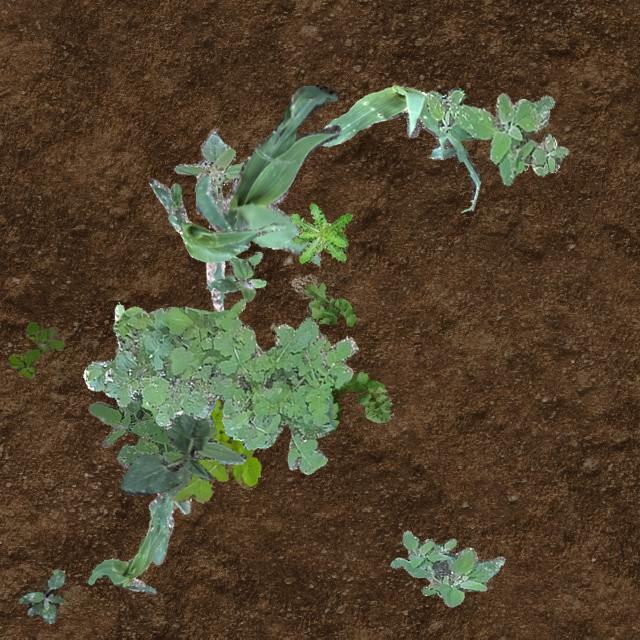crop: (193, 84, 339, 310), (320, 84, 480, 210), (114, 304, 190, 564), (148, 176, 284, 262), (86, 492, 168, 594), (120, 412, 212, 496)
weed: (82, 296, 356, 474), (270, 272, 392, 430), (426, 86, 568, 184), (86, 360, 182, 468), (170, 398, 260, 502), (389, 530, 504, 606), (160, 414, 246, 498), (172, 130, 244, 198), (288, 202, 350, 262), (8, 322, 64, 378), (204, 250, 266, 300), (17, 568, 64, 622)
